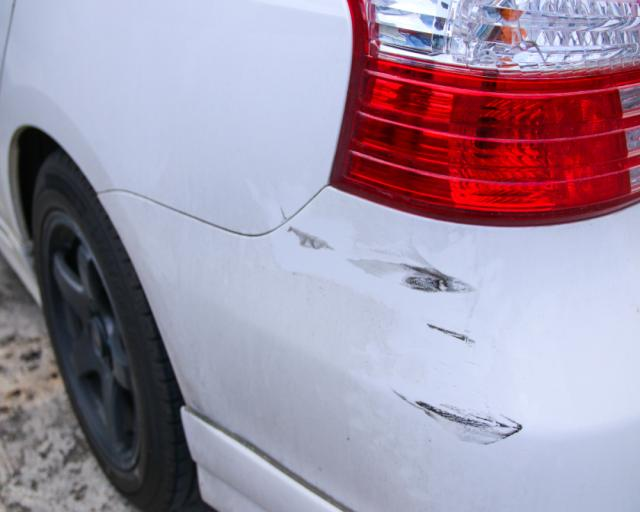scratch: (291, 226, 529, 456)
